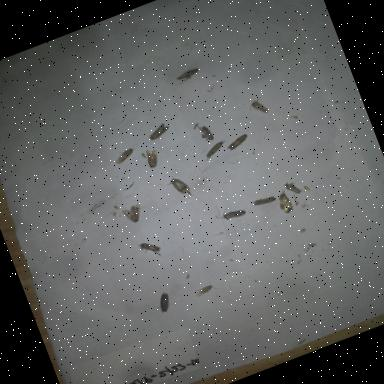pbw: (241, 186, 284, 224), (166, 61, 211, 94), (190, 116, 231, 149), (162, 166, 201, 200), (274, 170, 310, 206), (242, 89, 278, 122), (218, 196, 254, 228), (221, 127, 259, 156), (140, 116, 179, 144), (131, 234, 165, 264), (188, 274, 224, 302), (150, 286, 182, 316), (198, 136, 232, 164), (116, 201, 148, 230), (110, 140, 140, 169), (274, 187, 302, 218), (140, 144, 168, 172)
